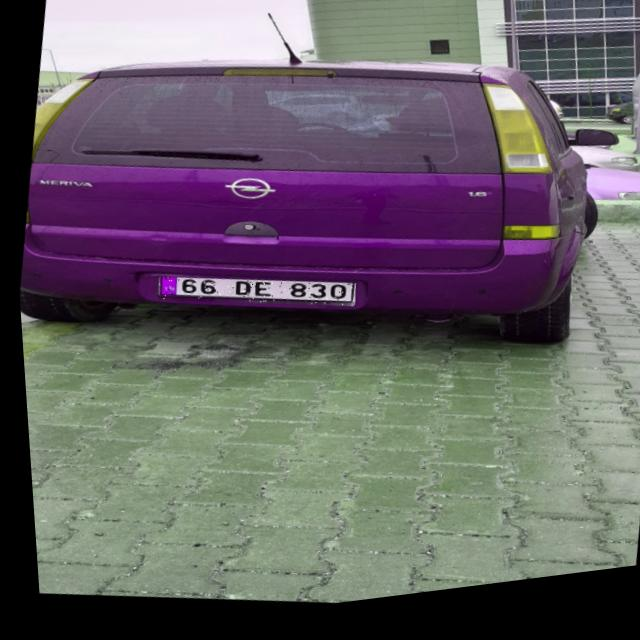license_plate: (152, 262, 353, 334)
